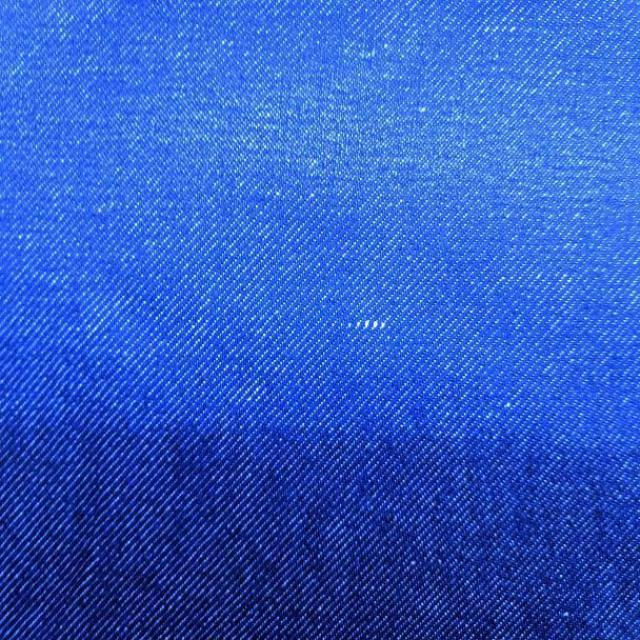Knot: (348, 320, 388, 331)
